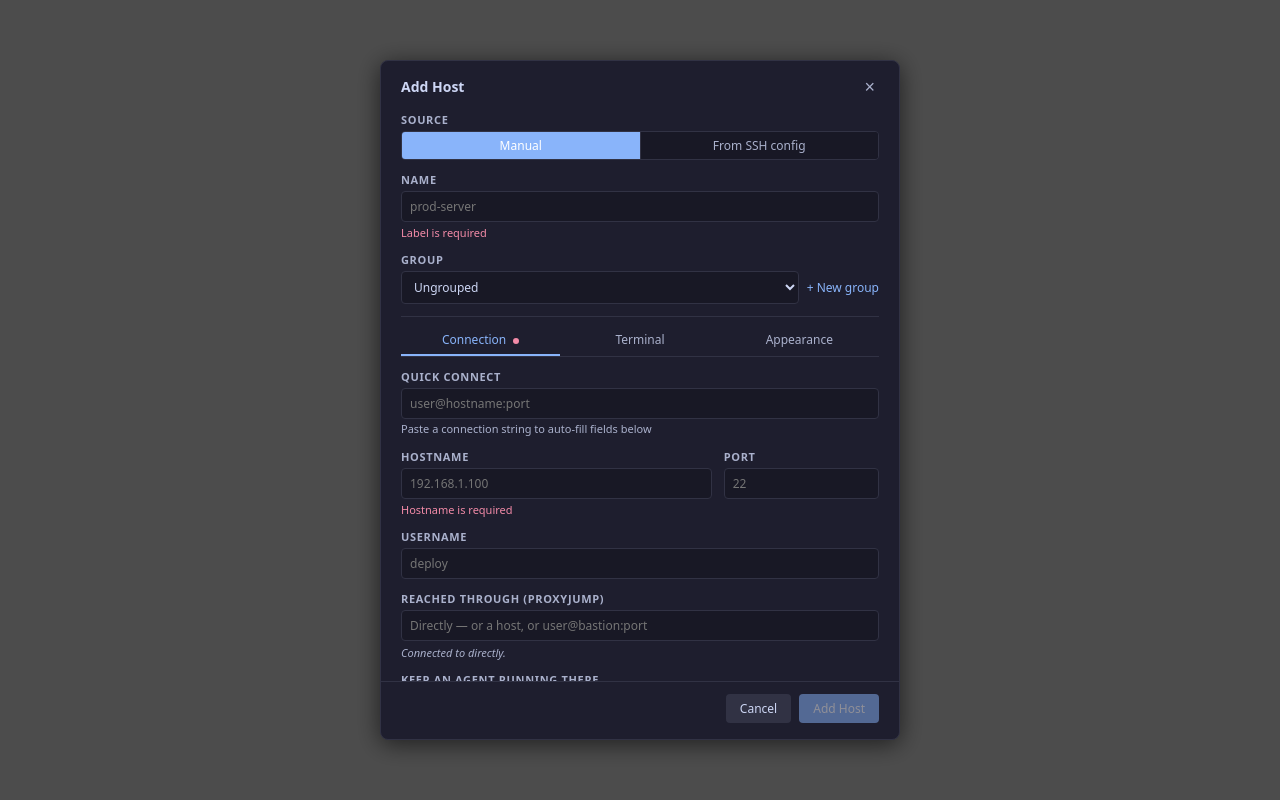
Test case: HostModal reading the hub's SSH config (#734, #757) › says the hub's reason in the dialog, and clears it once a retry reads it
The image size is (1280, 800).
What coordinates should you click on to do the following:
click the button with class "source-tab" showing "From SSH config"
I would click on:
 (759, 146)
Its box is 640,132 -> 878,159.
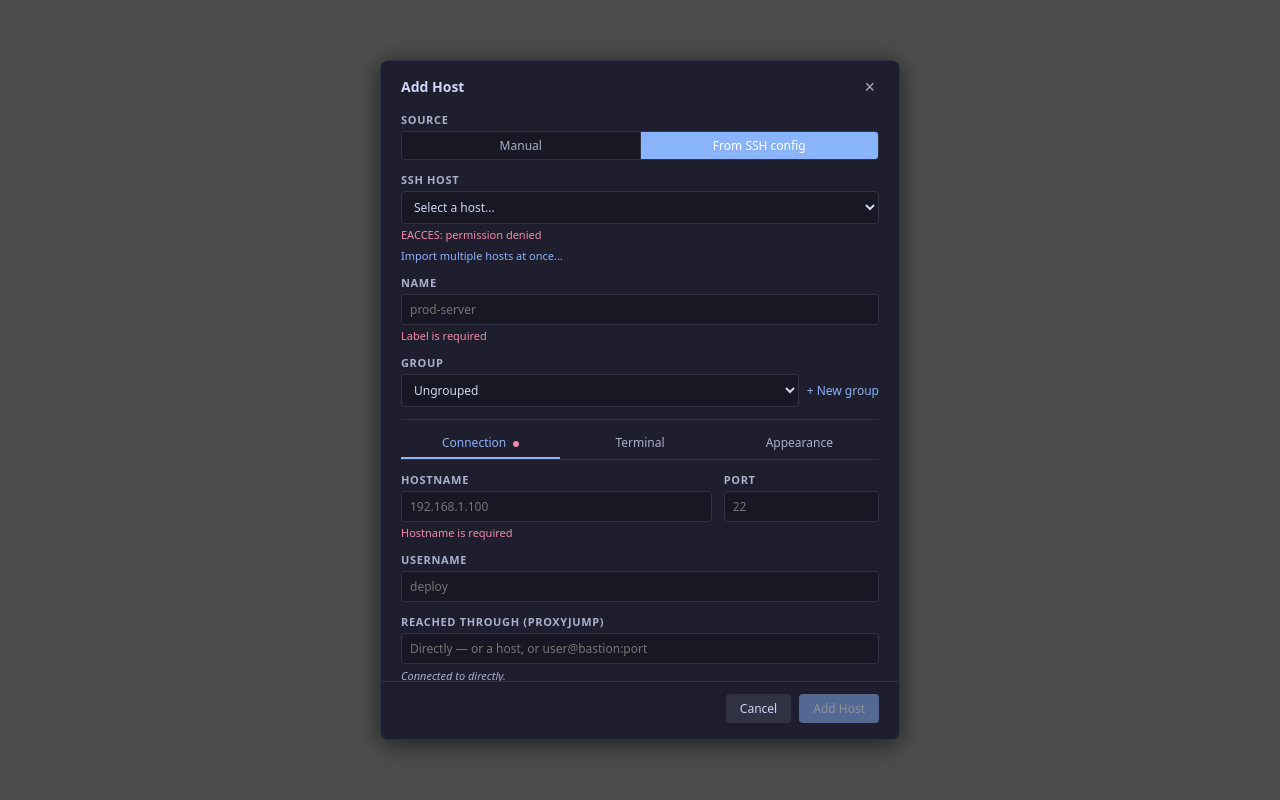
Check: the message with class "ssh-config-error" reads "EACCES: permission denied", box 401,227 -> 542,242
What coordinates should you click on to do the following:
click the button with class "source-tab" showing "From SSH config"
I would click on:
 (759, 146)
Its box is 640,132 -> 878,159.
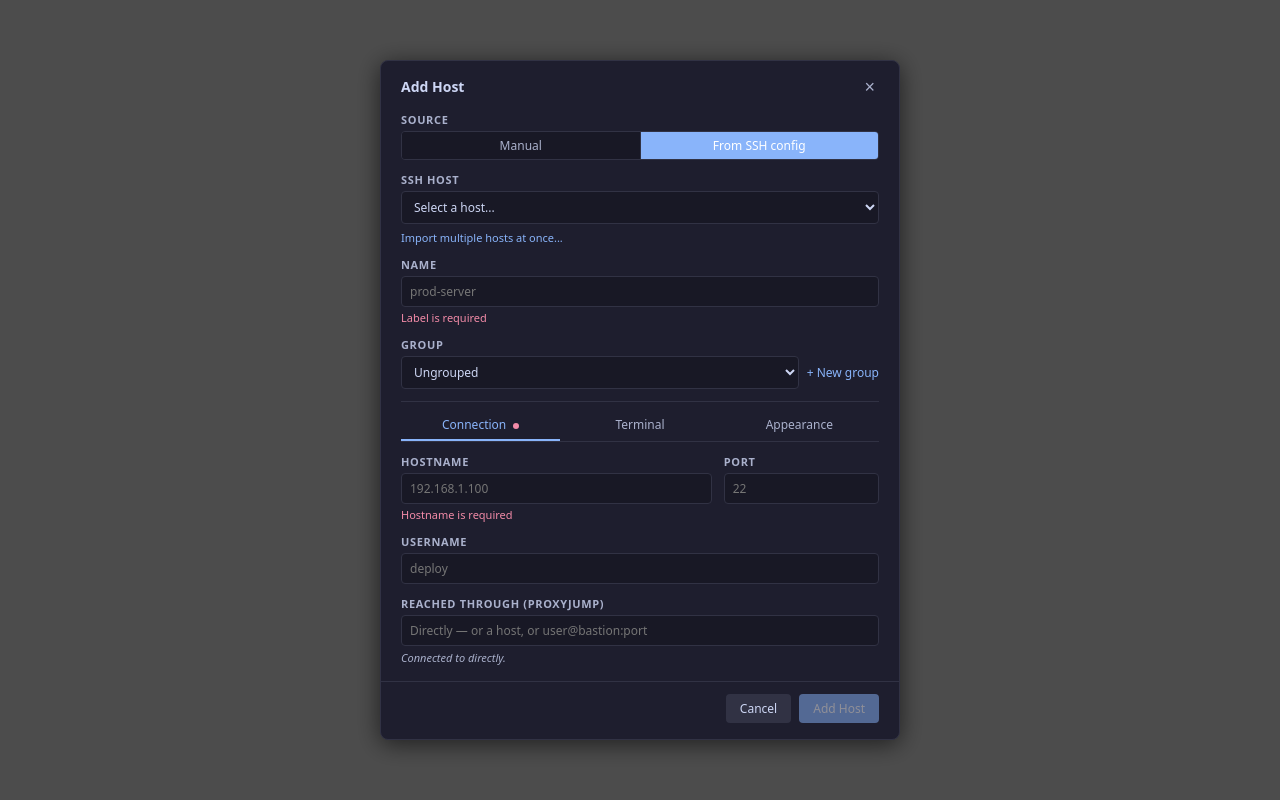
Check: the message with class "ssh-config-error" is gone
